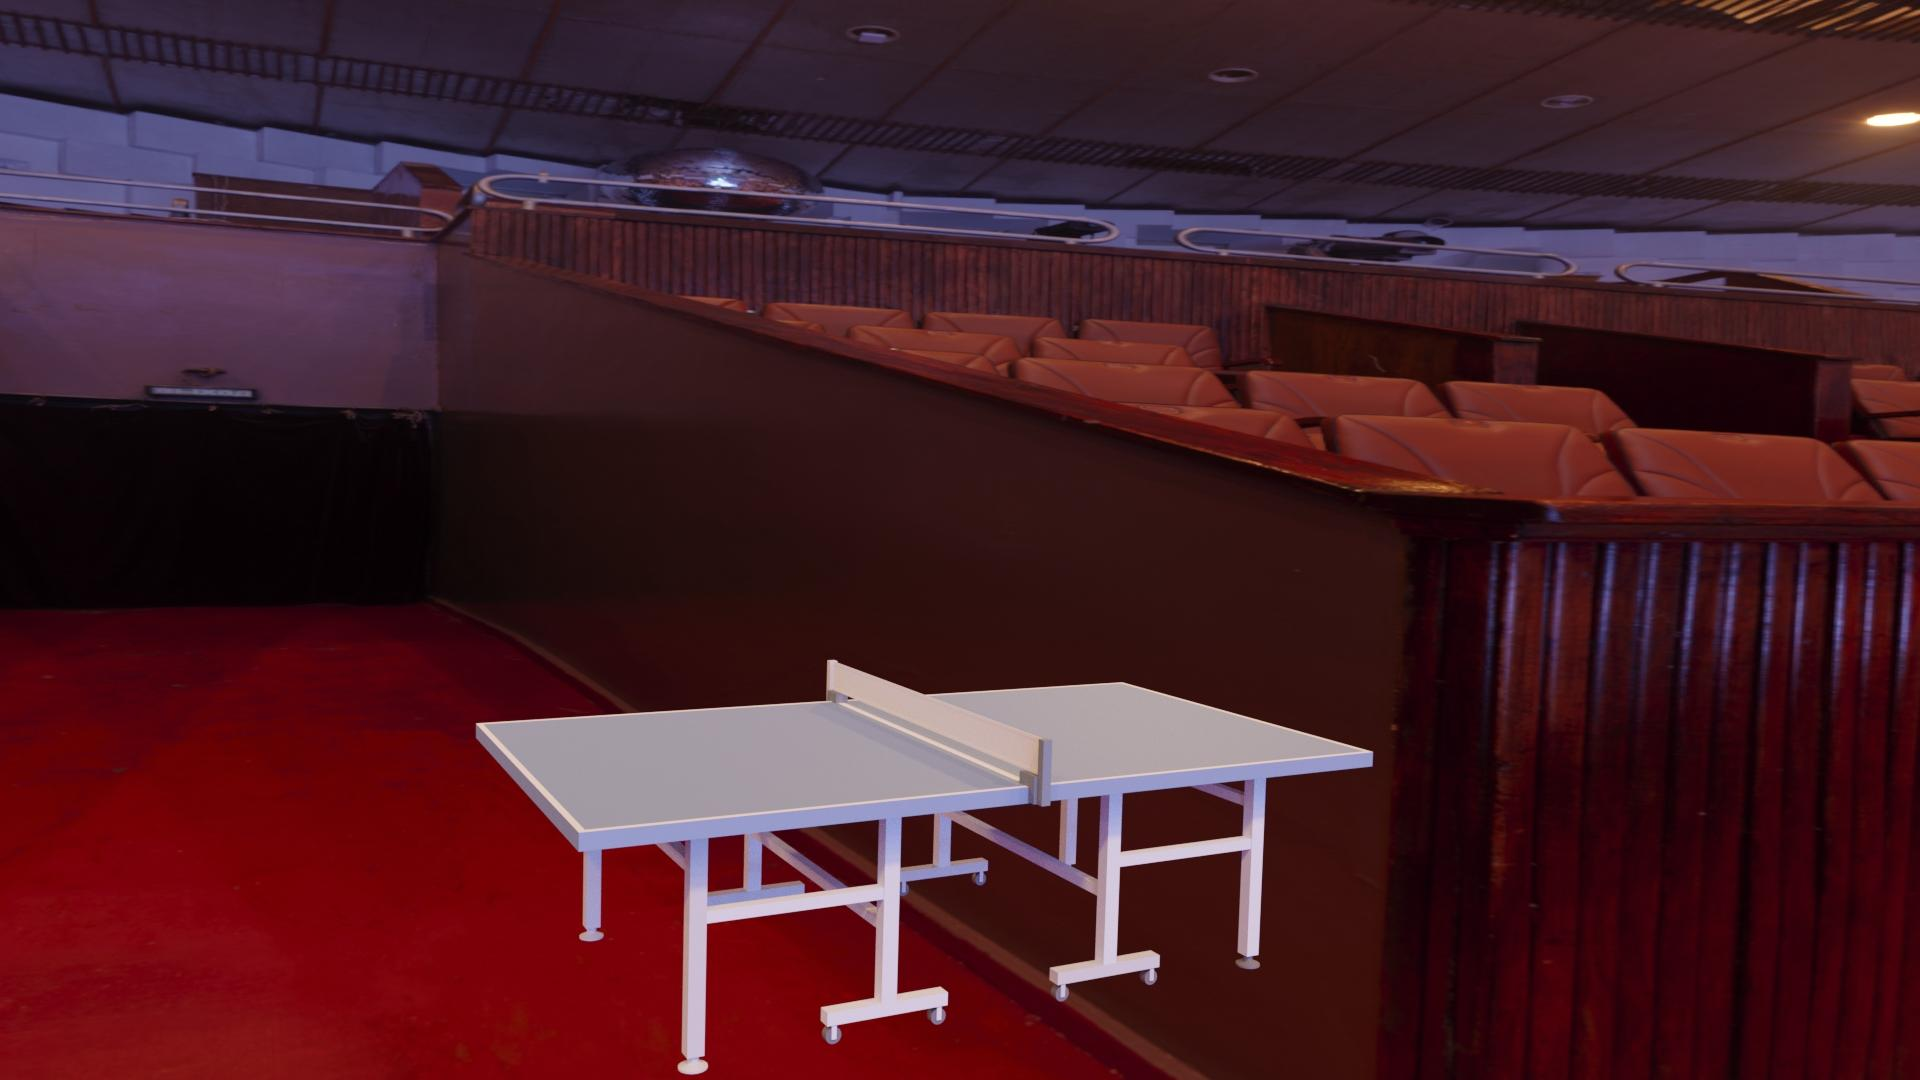table: (483, 683, 1365, 829)
